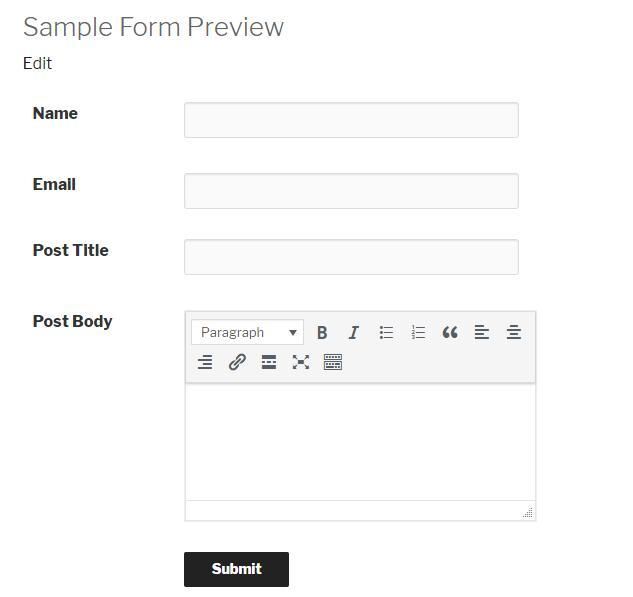button: (185, 553, 290, 589)
input: (184, 171, 519, 213), (184, 101, 520, 140), (184, 238, 519, 276)
label: (22, 14, 289, 47), (30, 237, 115, 266), (28, 311, 116, 334), (34, 171, 79, 199), (31, 104, 82, 126)
